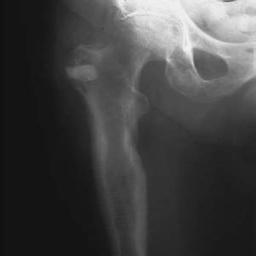cancer: (67, 44, 152, 253)
